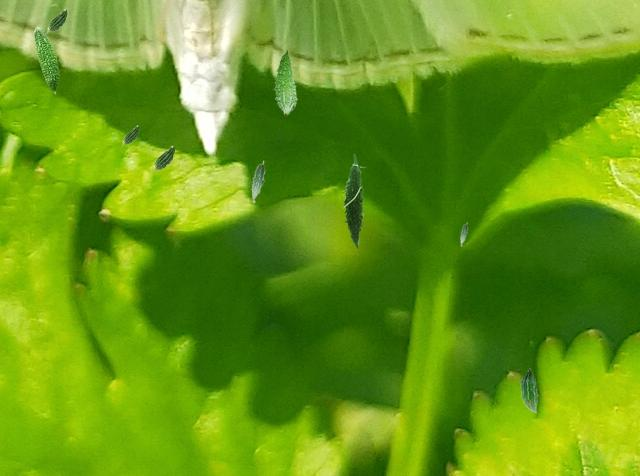ampalaya: (341, 153, 367, 250), (33, 26, 60, 94), (273, 48, 298, 116), (520, 367, 538, 413), (152, 145, 175, 172), (251, 160, 265, 203), (46, 8, 67, 34), (121, 125, 139, 146), (460, 221, 468, 246)
